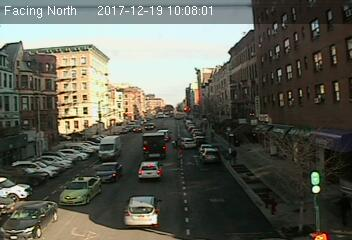car: (1, 198, 59, 240), (122, 194, 161, 227), (60, 175, 99, 207), (93, 163, 123, 184), (137, 160, 162, 179), (200, 146, 219, 164), (172, 137, 195, 149)
truck: (98, 136, 120, 160)
ups: (141, 131, 167, 159)
